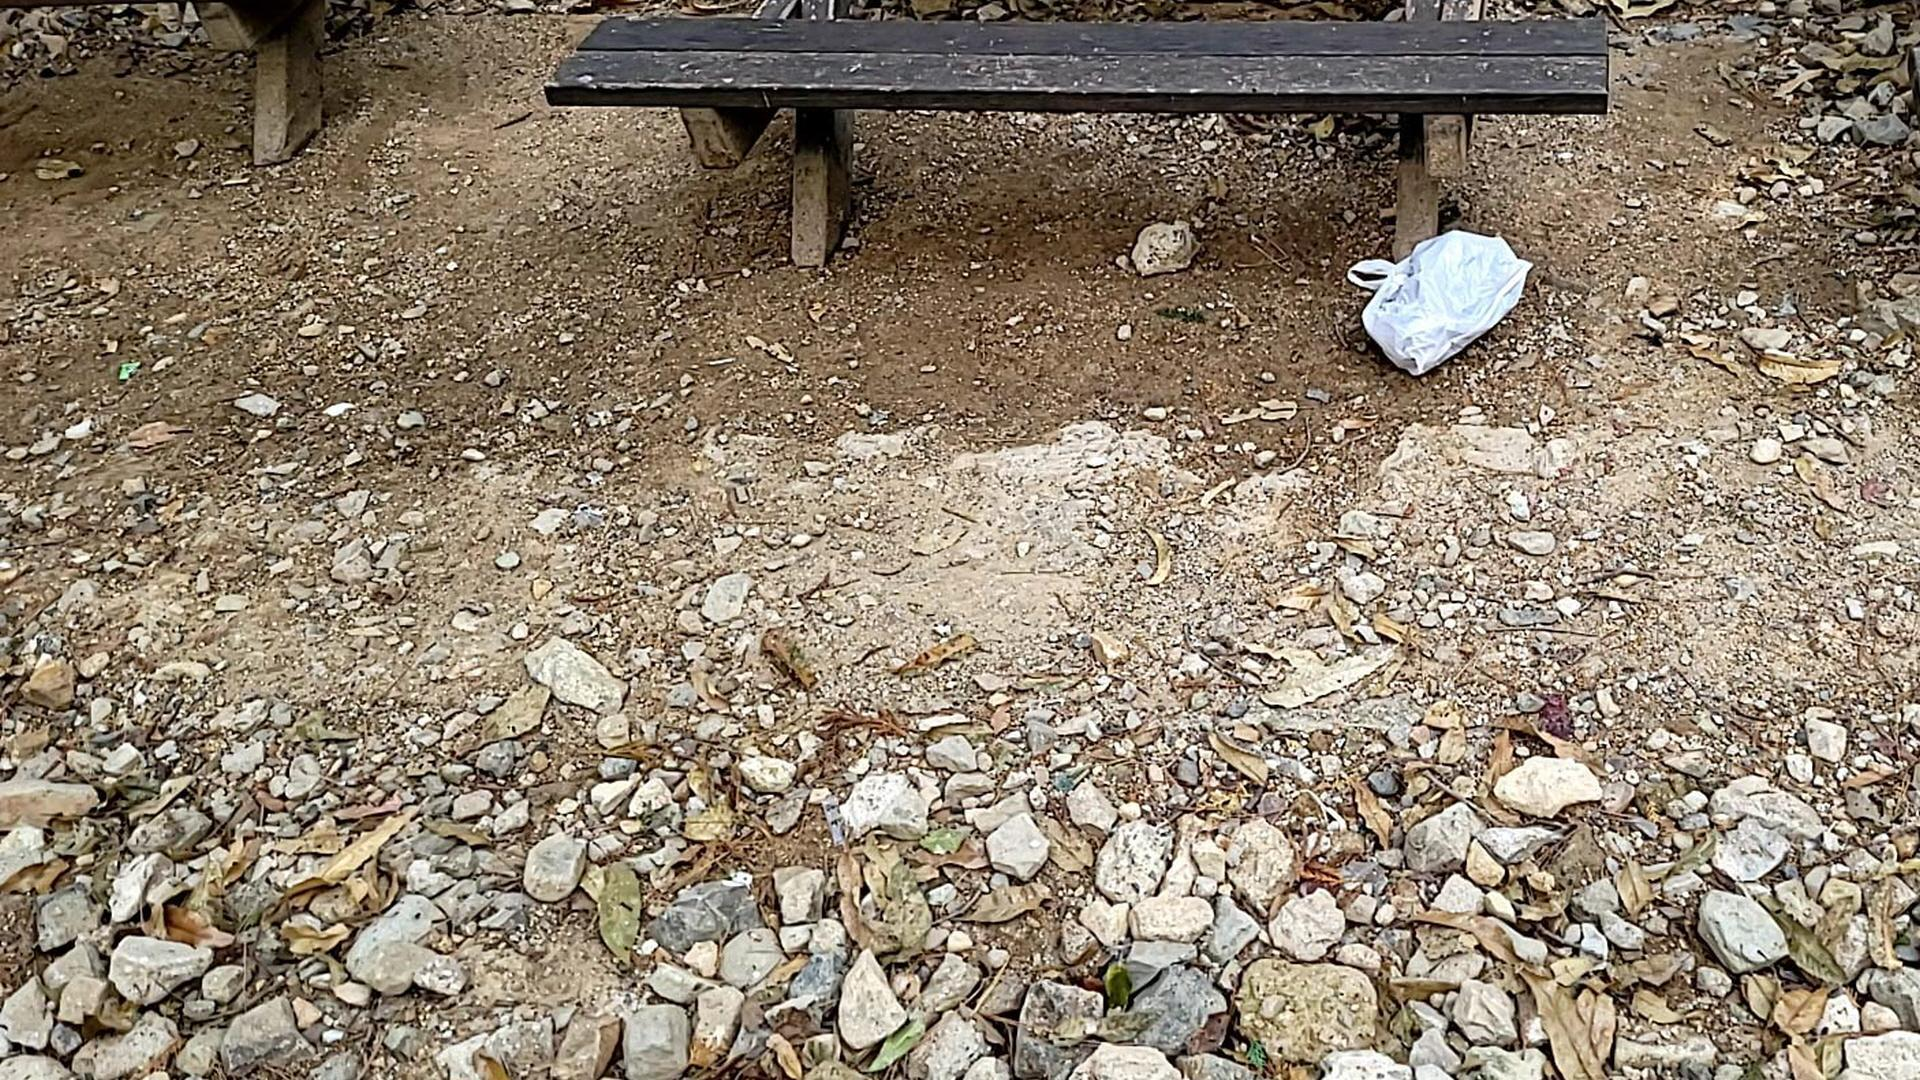white_bag: (1340, 220, 1540, 382)
